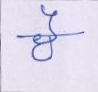ai_matra: (41, 5, 60, 33)
